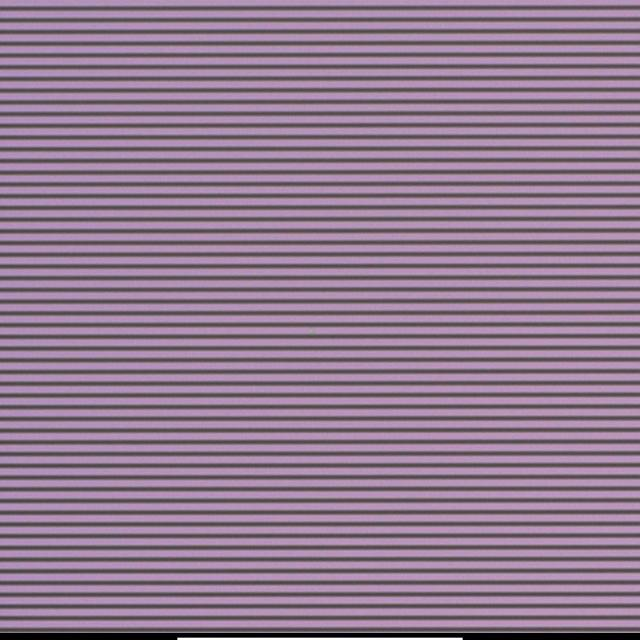nonvisual: (306, 327, 315, 338)
